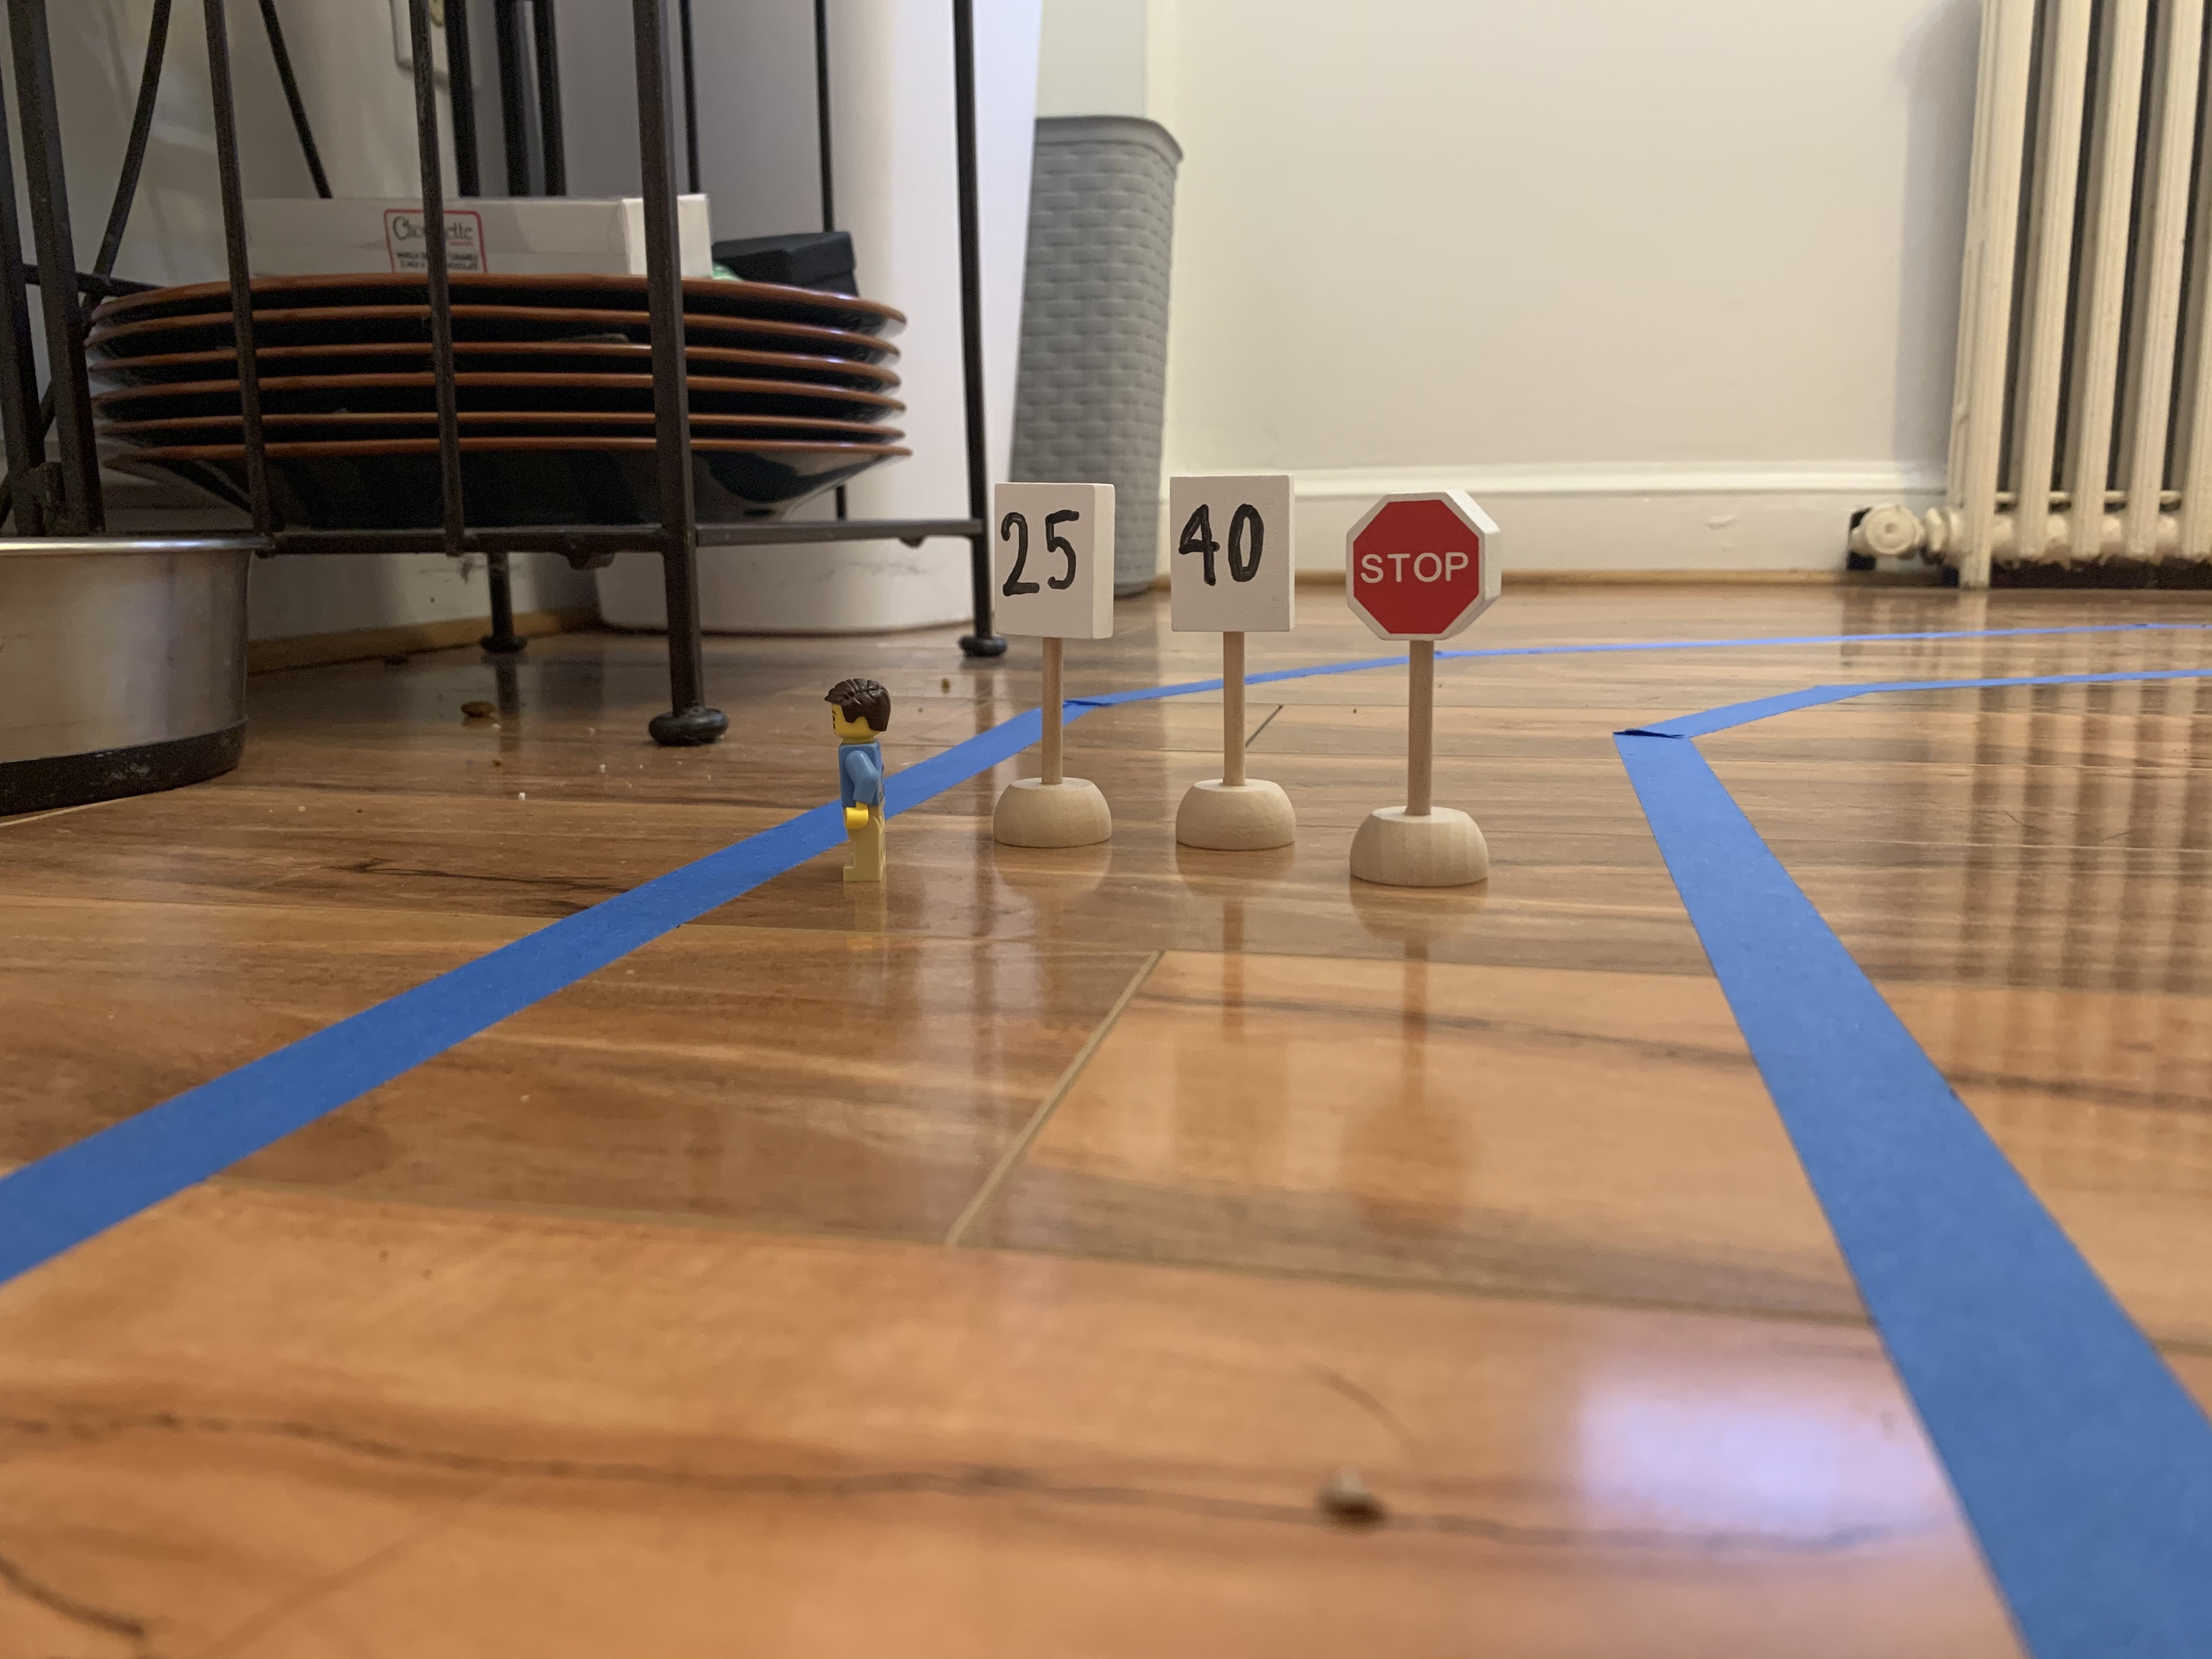Person: (826, 669, 901, 890)
Speed Limit 25: (991, 486, 1101, 636)
Speed Limit 40: (1170, 482, 1291, 627)
Stop Sign: (1341, 489, 1498, 644)
